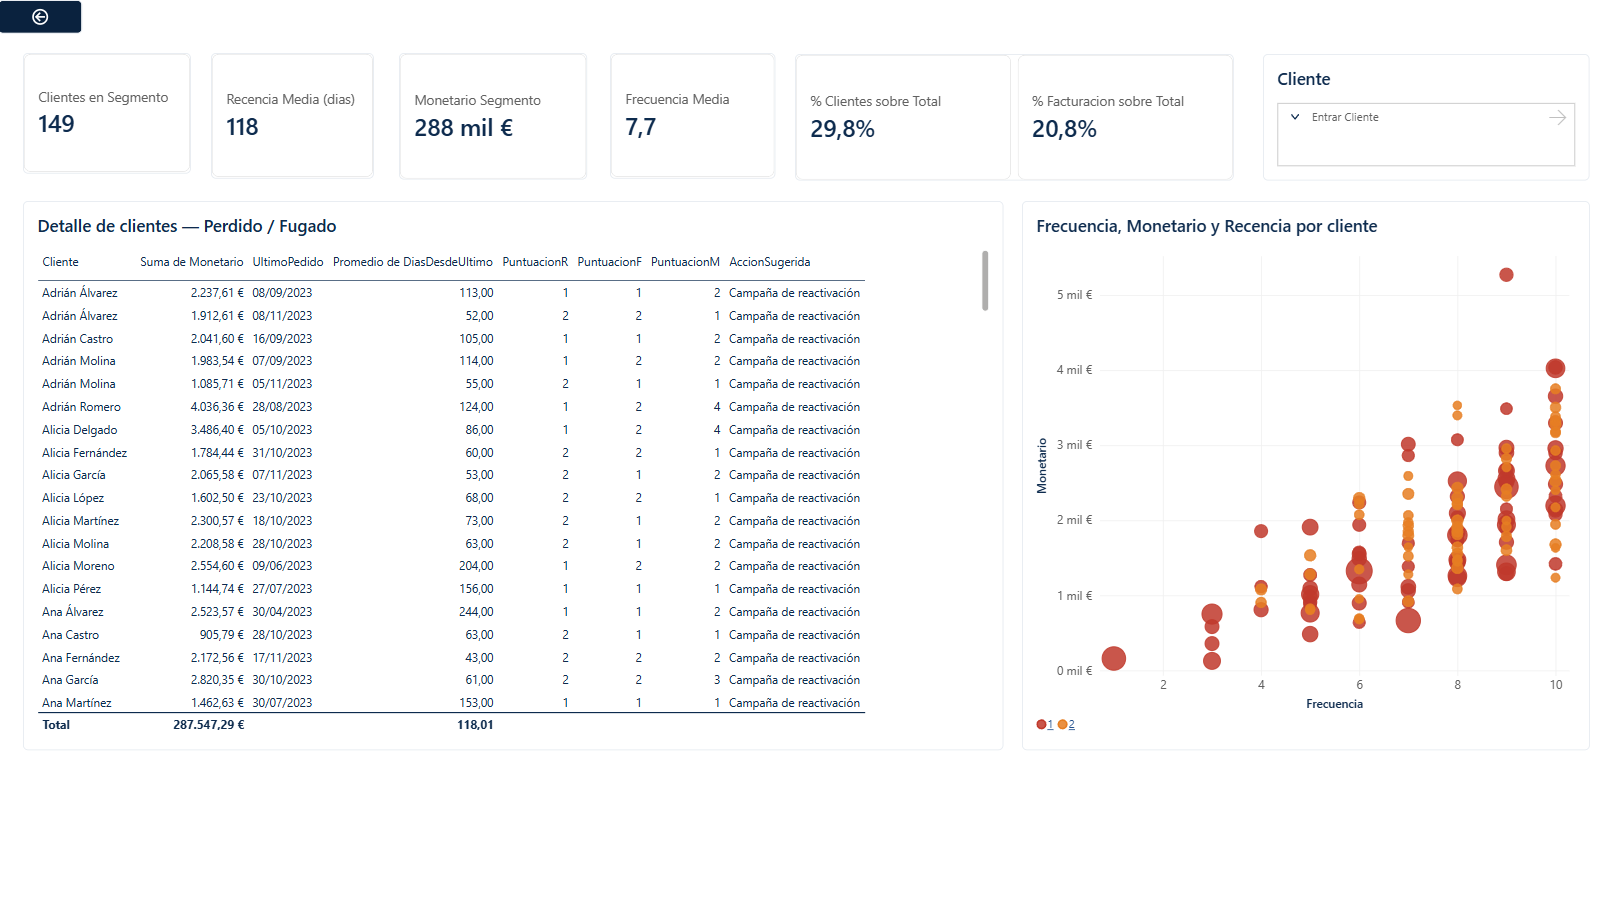

What the dashboard file says about the page in this screenshot:
{"tool":"powerbi","page":{"name":"Detalle_segmentacion","canvas":[1920,1080],"ordinal":2},"visuals":[{"type":"actionButton","box":[0,0,100,40],"z":0},{"type":"tableEx","fields":{"Values":["DIM_Clientes.Cliente","Sum(RFM_Clientes.Monetario)","select","RFM_Clientes.UltimoPedido","RFM_Clientes.DiasDesdeUltimo","RFM_Clientes.PuntuacionR","RFM_Clientes.PuntuacionF","RFM_Clientes.PuntuacionM","RFM_Clientes.AccionSugerida"]},"box":[29.7,237.8,1162.1,650.9],"z":1000},{"type":"cardVisual","fields":{"Data":["_Medidas.Clientes en Segmento"]},"box":[29.7,62.4,199.1,142.7],"z":2000},{"type":"cardVisual","fields":{"Data":["_Medidas.Monetario Segmento"]},"box":[475.5,62.4,223,150],"z":3000},{"type":"cardVisual","fields":{"Data":["_Medidas.Recencia Media (dias)"]},"box":[252.6,62.4,193.2,148.6],"z":4000},{"type":"cardVisual","fields":{"Data":["_Medidas.Frecuencia Media"]},"box":[725.2,62.4,196.2,148.6],"z":5000},{"type":"cardVisual","fields":{"Data":["_Medidas.% Clientes sobre Total","_Medidas.% Facturacion sobre Total"]},"box":[945.1,63.7,520,150],"z":6000},{"type":"scatterChart","title":"Frecuencia, Monetario y Recencia por cliente","fields":{"Series":["RFM_Clientes.PuntuacionR"],"Size":["Sum(RFM_Clientes.DiasDesdeUltimo)"],"X":["RFM_Clientes.Frecuencia"],"Y":["RFM_Clientes.Monetario"]},"box":[1213.9,238,673.2,651.3],"z":7000},{"type":"textSlicer","fields":{"Values":["DIM_Clientes.Cliente"]},"box":[1499.8,63.7,387.4,150.4],"z":8000}]}

Visuals, with their boxes on the page's 1920x1080 design canvas (x1, y1, x2, y2). These are canvas units, not pixel positions in the 1614x910 screenshot, which may show the page scaled, cropped or inside an application window:
actionButton: 0:0:100:40
tableEx - DIM_Clientes.Cliente x Sum(RFM_Clientes.Monetario): 30:238:1192:889
cardVisual - _Medidas.Clientes en Segmento: 30:62:229:205
cardVisual - _Medidas.Monetario Segmento: 476:62:698:212
cardVisual - _Medidas.Recencia Media (dias): 253:62:446:211
cardVisual - _Medidas.Frecuencia Media: 725:62:921:211
cardVisual - _Medidas.% Clientes sobre Total x _Medidas.% Facturacion sobre Total: 945:64:1465:214
"Frecuencia, Monetario y Recencia por cliente" scatterChart: 1214:238:1887:889
textSlicer - DIM_Clientes.Cliente: 1500:64:1887:214
